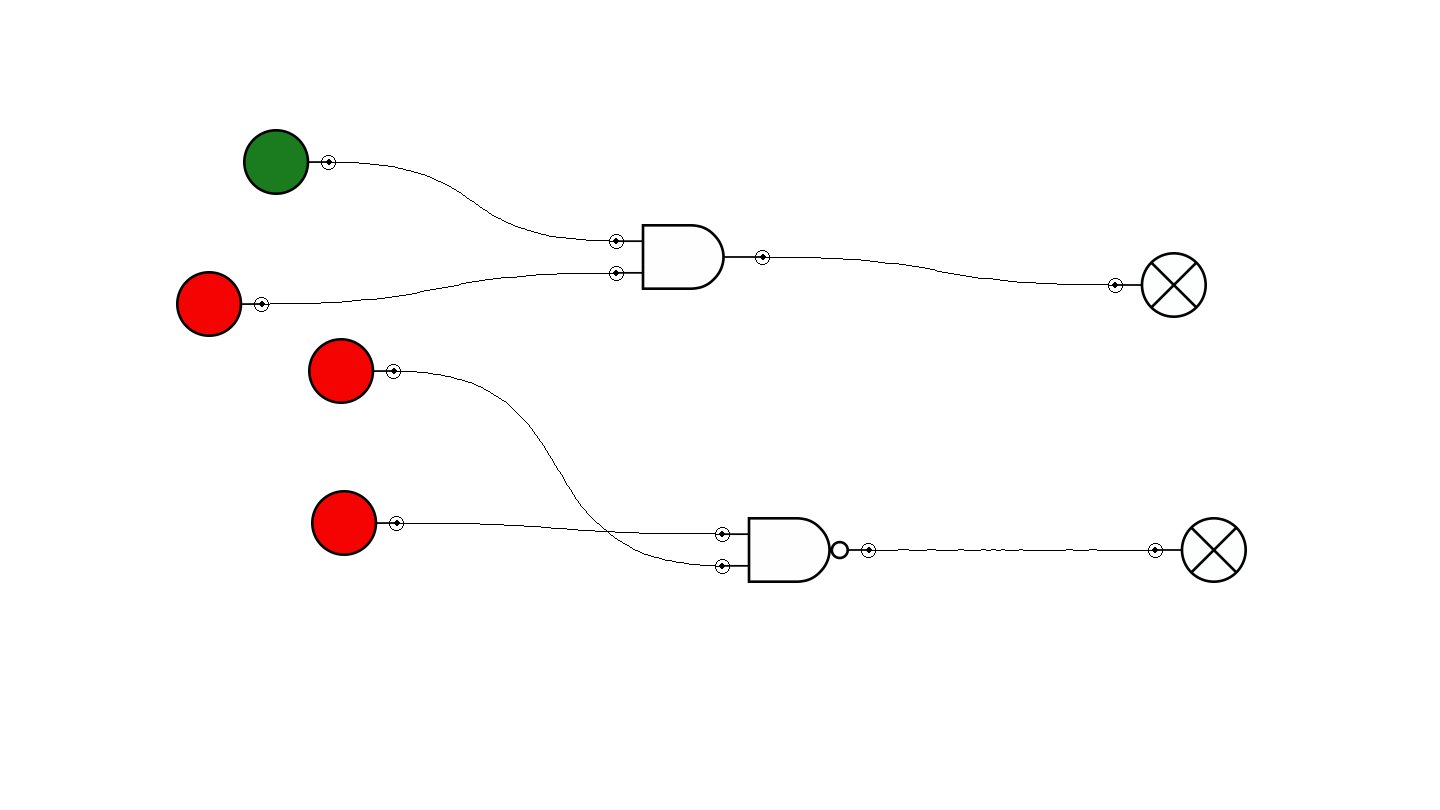and: (609, 224, 770, 290)
bulb: (1108, 252, 1207, 318), (1148, 517, 1247, 583)
nand: (715, 517, 876, 583)
switch_False: (311, 490, 404, 556), (308, 338, 401, 404), (176, 271, 269, 337)
switch_True: (243, 129, 336, 195)
